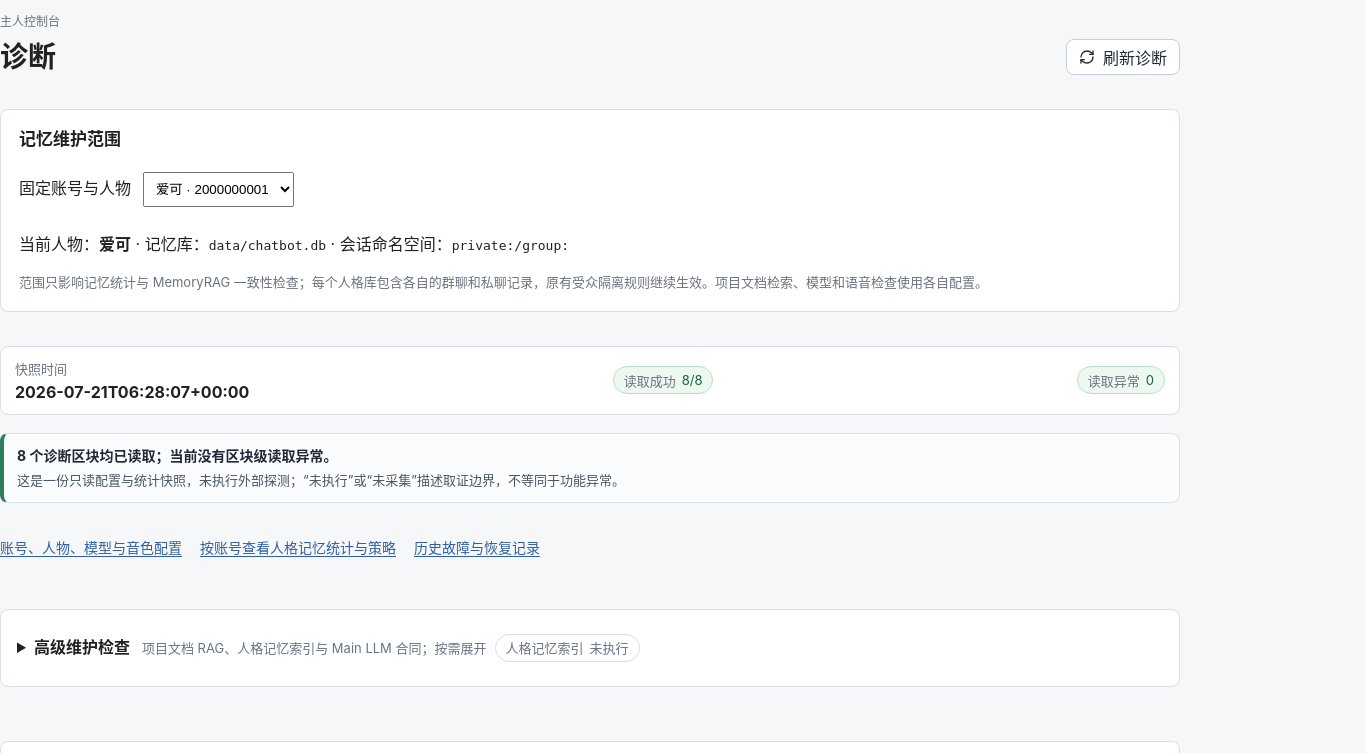
Test case: DiagnosticsPage › runs the fixed MemoryRAG consistency check once and keeps private data absent
Click the heading that starts with "高级维护检查" at (337,648), box top-left (34, 634), bottom-right (640, 662)
(page scrolled)
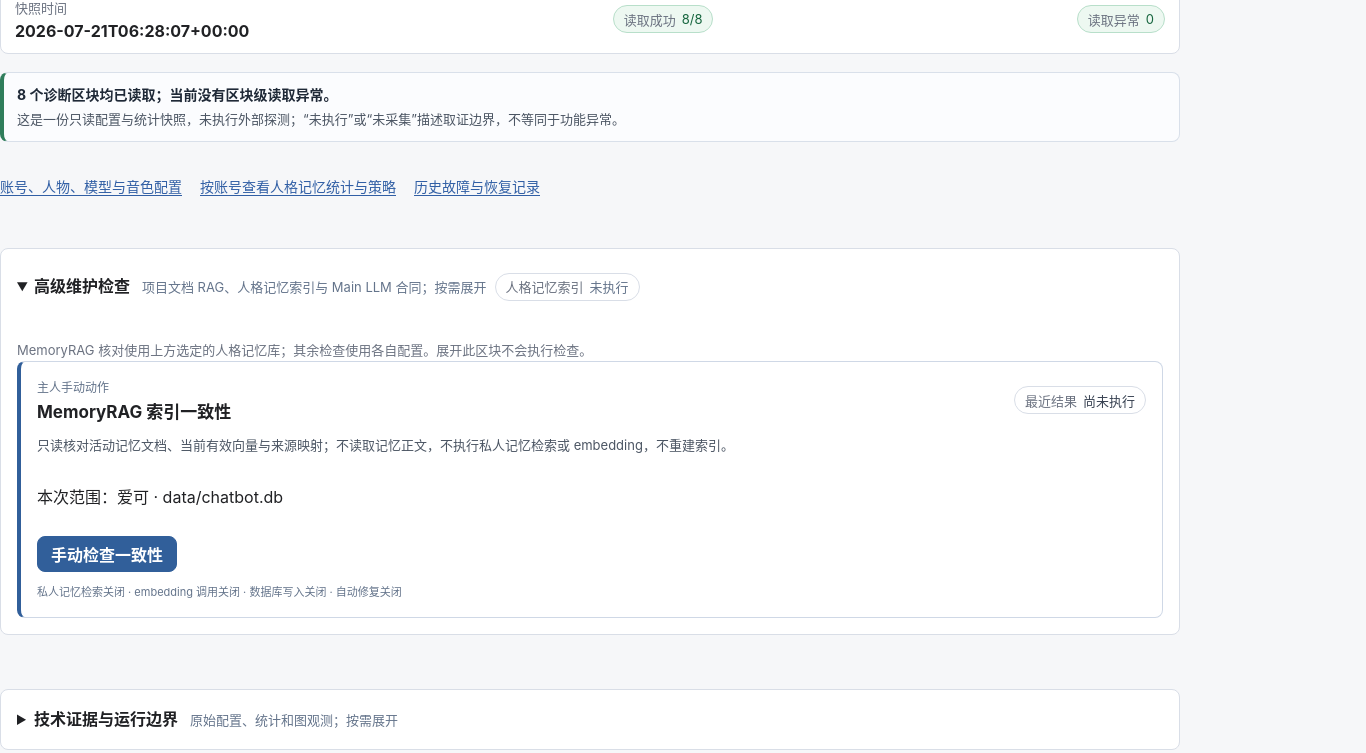
Click the button "手动检查一致性" at (107,554), box top-left (37, 536), bottom-right (177, 572)
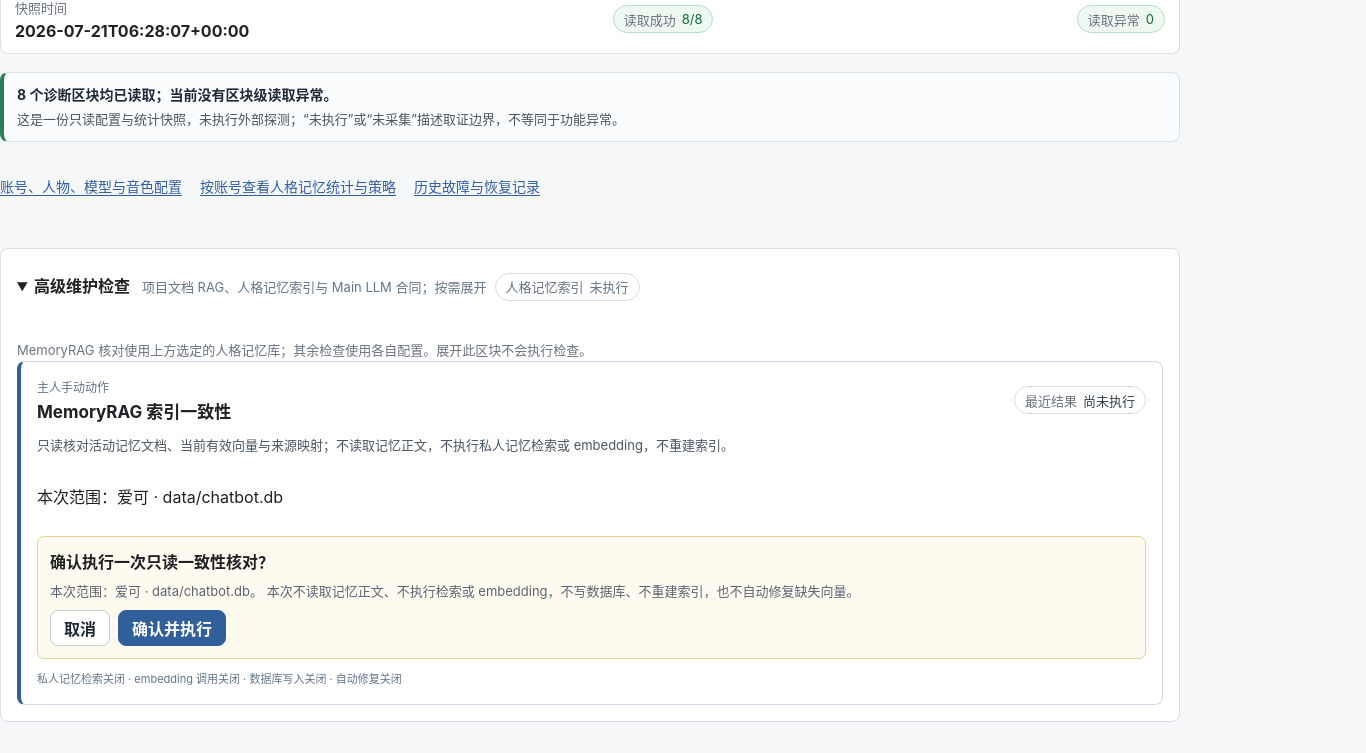
Now the text "确认执行一次只读一致性核对？" is shown, box top-left (50, 552), bottom-right (274, 572)
Click the button "确认并执行" at (172,628), box top-left (118, 610), bottom-right (226, 646)
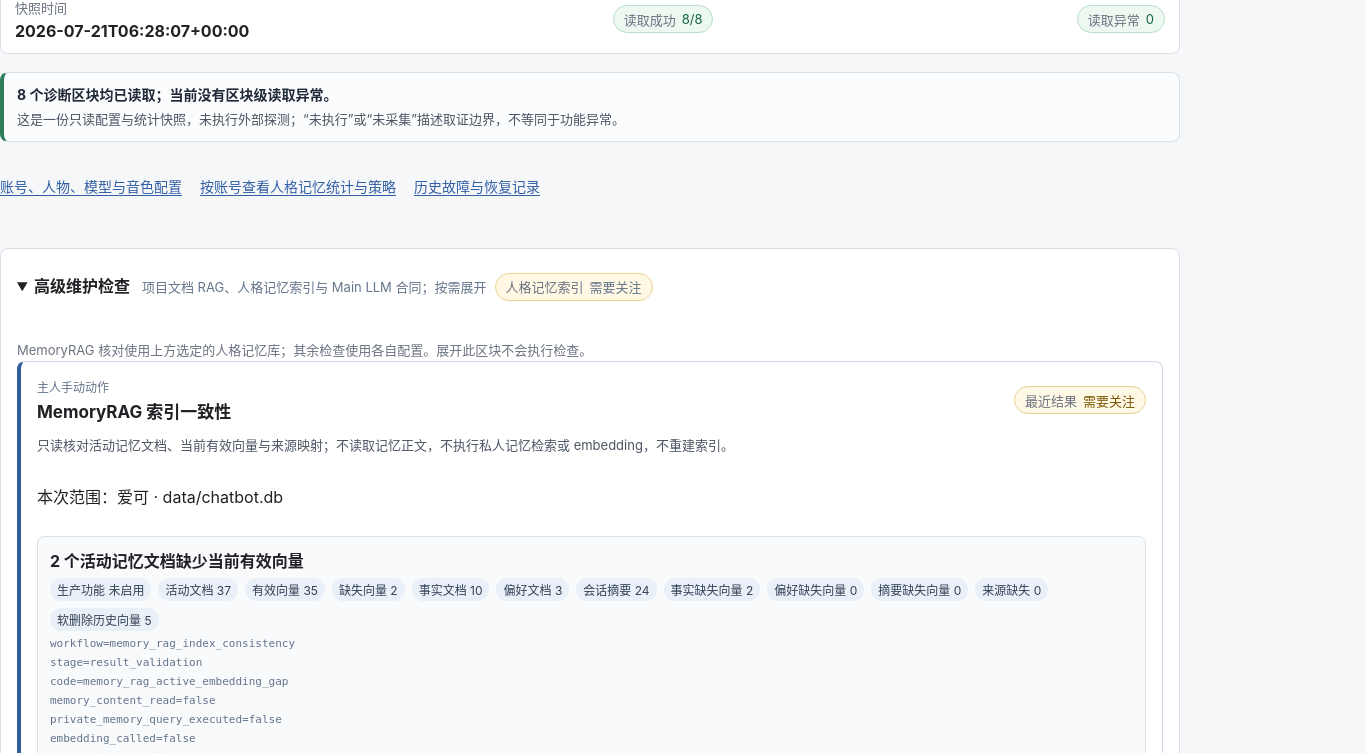
Now the text "2 个活动记忆文档缺少当前有效向量" is shown, box top-left (50, 551), bottom-right (304, 571)
Now the text "需要关注" in the row of "项目文档 RAG、人格记忆索引与 Main LLM 合同；按需展开" is shown, box top-left (590, 278), bottom-right (642, 294)
Now the text "活动文档 37" is shown, box top-left (158, 578), bottom-right (238, 601)
